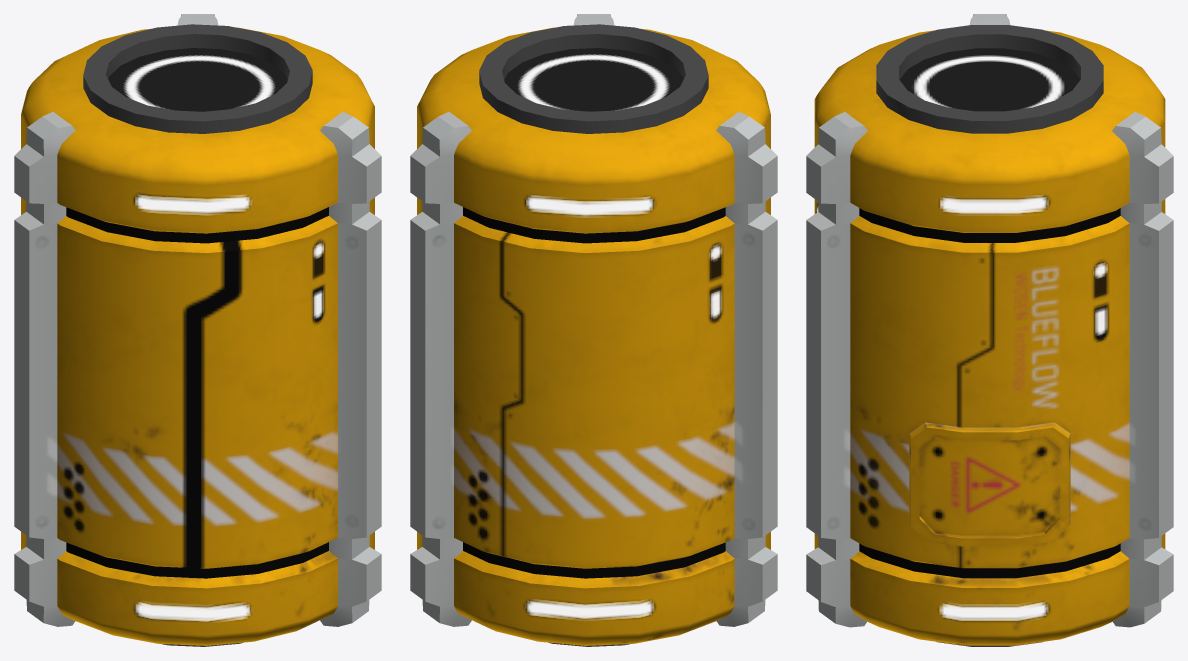
Rendered from Pfb_Soda_WarmKeeper__3.fbx.
3 views of the same model, side by side, from view 1: azimuth 30°, elevation 25°; view 2: azimuth 150°, elevation 25°; view 3: azimuth 270°, elevation 25° (orthographic).
Visible parts, largest first — view 1: WarmKeeper_AsEngine; view 2: WarmKeeper_AsEngine; view 3: WarmKeeper_AsEngine.
Part boxes in pixels (box(x1,y1,x2,y2)): WarmKeeper_AsEngine: box(14, 14, 381, 646); WarmKeeper_AsEngine: box(410, 14, 777, 646); WarmKeeper_AsEngine: box(806, 14, 1173, 646).
Size of the model in its own units: 2.18 by 3.27 by 2.07.
1 material, 1 textured.
